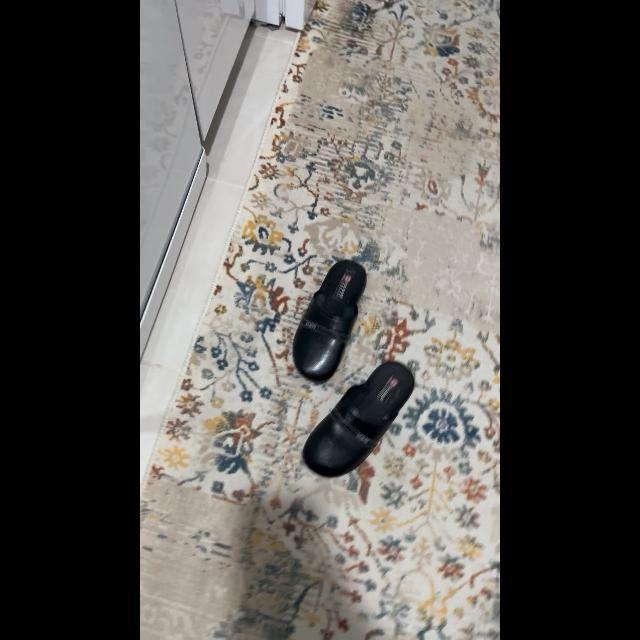slipper: (300, 362, 420, 482), (295, 256, 369, 384)
